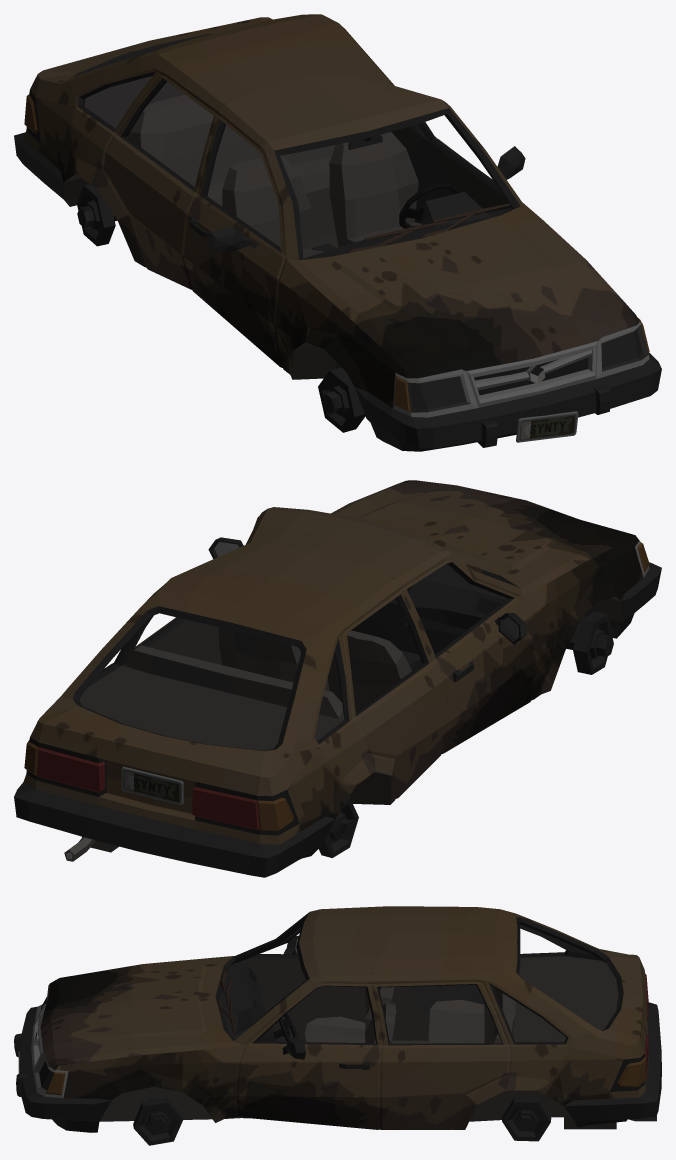
Rendered from SM_Veh_Car_Medium_Destroyed_01.fbx.
3 views of the same model, one above another, from view 1: azimuth 30°, elevation 25°; view 2: azimuth 150°, elevation 25°; view 3: azimuth 270°, elevation 25° (orthographic). The views are drawn at different scales.
Parts seen in each view (by area): view 1: SM_Veh_Car_Medium_Destroyed_01; view 2: SM_Veh_Car_Medium_Destroyed_01; view 3: SM_Veh_Car_Medium_Destroyed_01.
Boxes of the visible parts, bbox=[...] form: SM_Veh_Car_Medium_Destroyed_01: bbox=[14, 14, 661, 451]; SM_Veh_Car_Medium_Destroyed_01: bbox=[14, 480, 661, 877]; SM_Veh_Car_Medium_Destroyed_01: bbox=[14, 906, 661, 1145].
Bounding box in the file's own units: 218 × 142 × 500.
